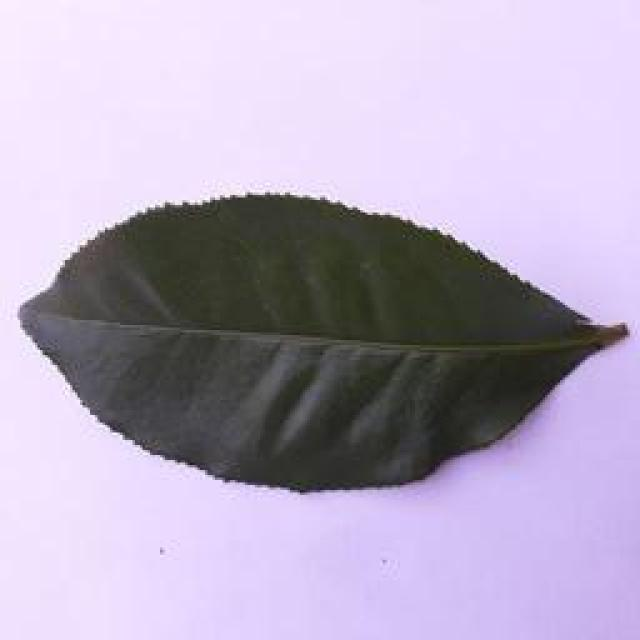Healthy: (20, 184, 635, 512)
